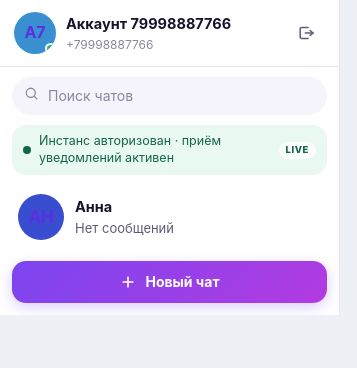
Test: ChatSidebar › сообщает, когда по запросу ничего не найдено
Type "zzz" into the search field labelled "Поиск чатов" at (170, 96), box [12, 77, 327, 115]
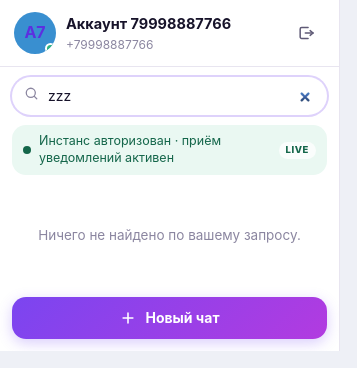
Check: the text "Ничего не найдено по вашему запросу." is shown, box [38, 226, 301, 242]
